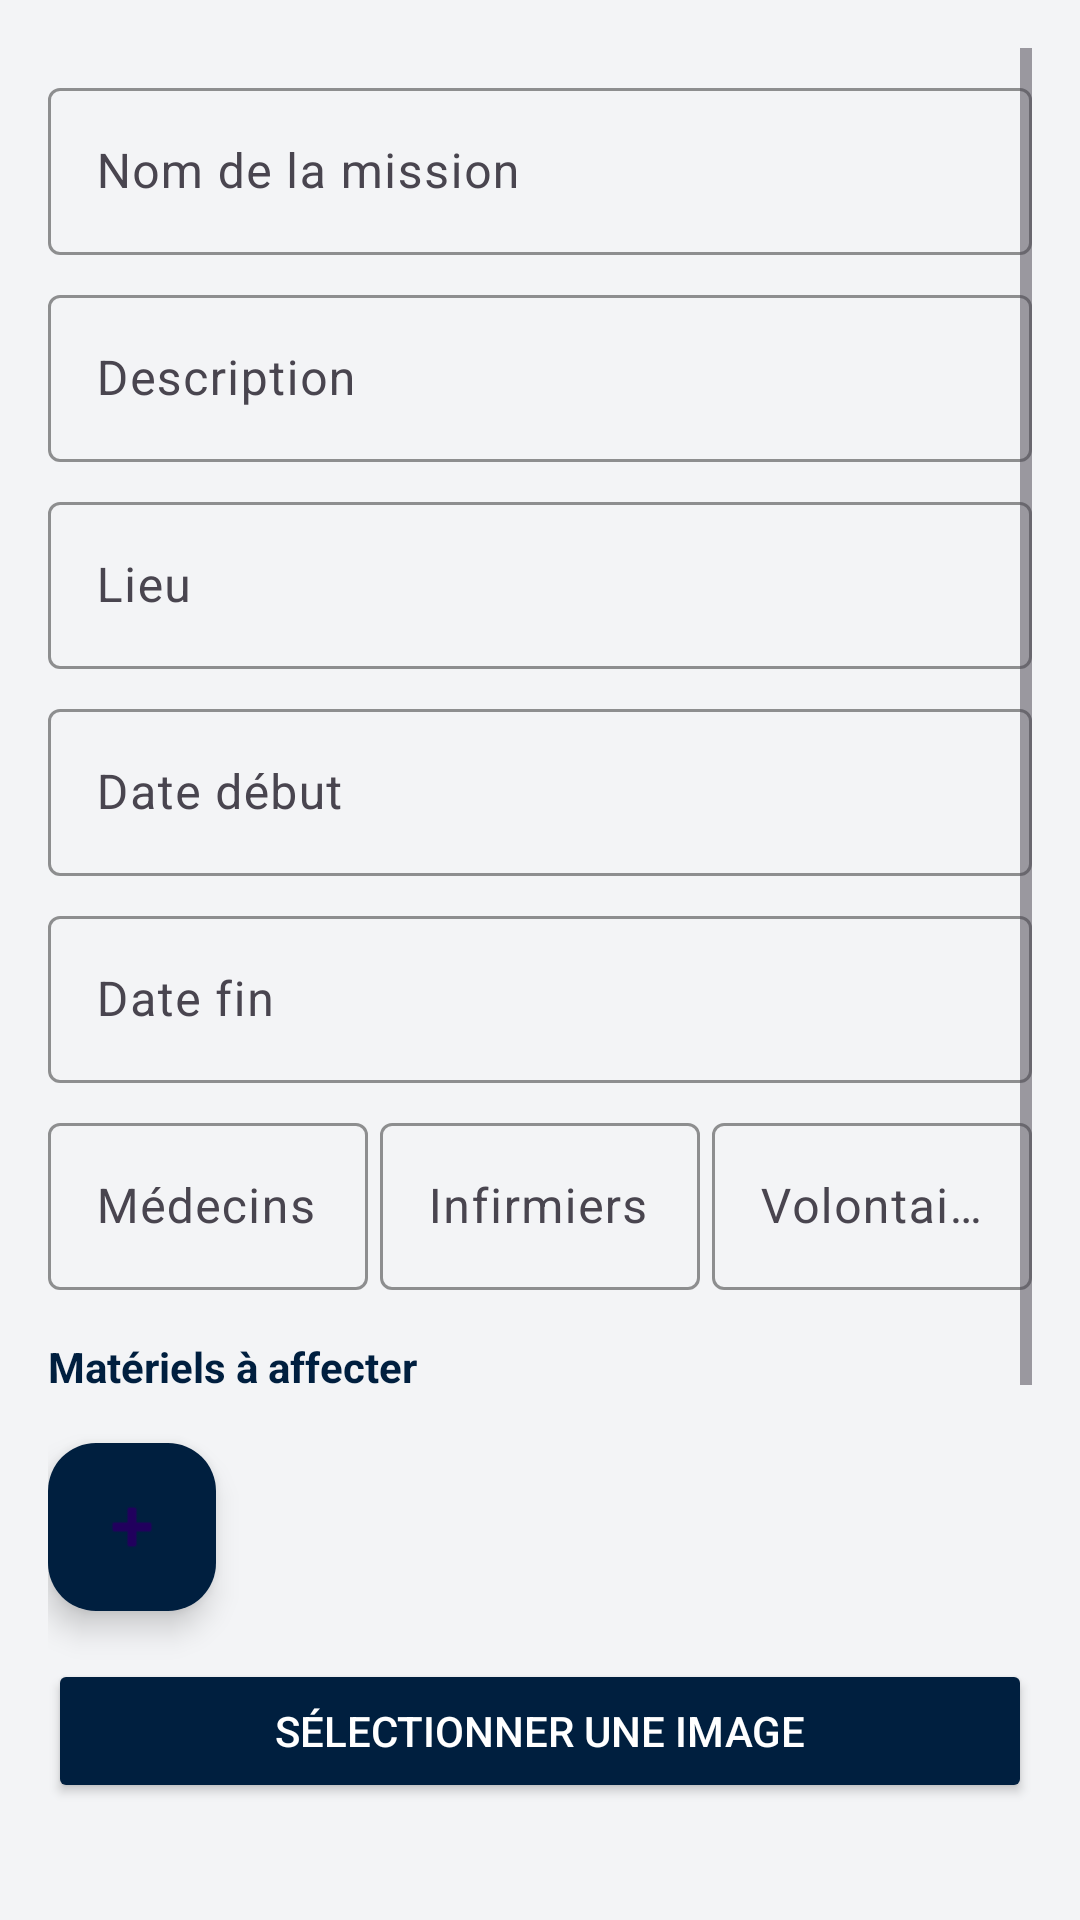

Screen size 1080 × 1920. Icon name, then its center in pixels as (x,y):
Ajouter matériel: (132,1527)
